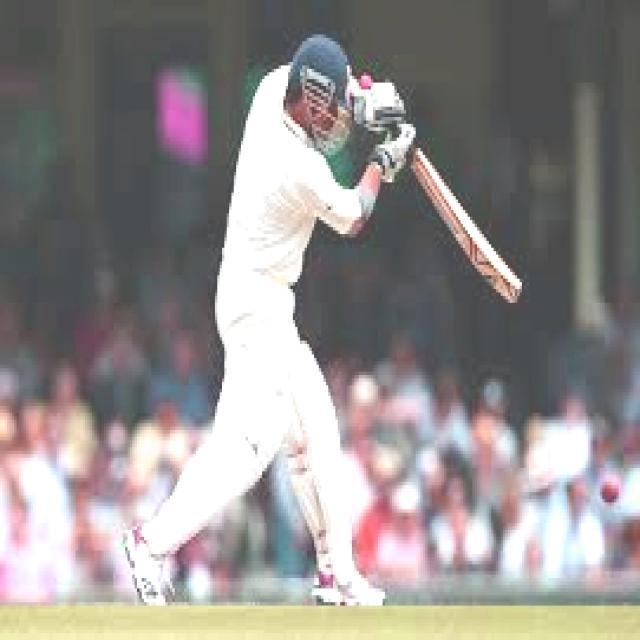bat: (413, 153, 523, 303)
toe: (513, 276, 525, 303)
